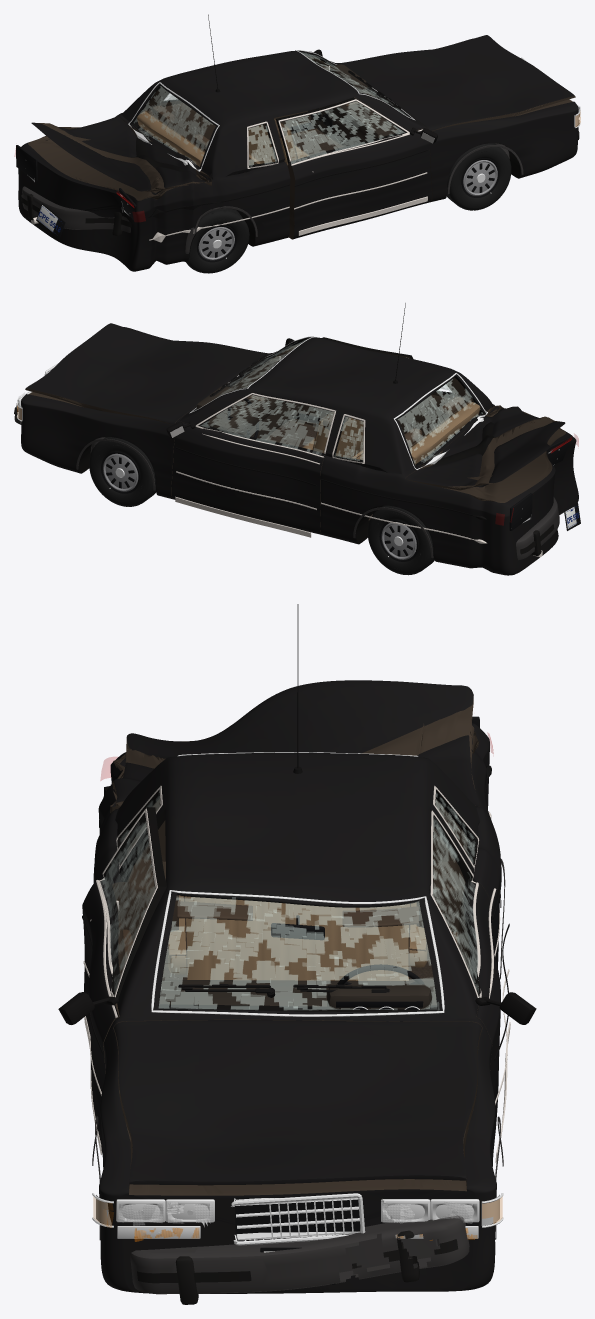
File: coupe84_rear_corner_R_d1.glb
3 renders of one model, top to bottom at view 1: azimuth 30°, elevation 25°; view 2: azimuth 150°, elevation 25°; view 3: azimuth 270°, elevation 25°, orthographic. The views are drawn at different scales.
Visible parts, largest first — view 1: Body, Hood, Door_FR, Trunk, Interior, Glass, Wheel_FR_mesh, Glass_FR, Wheel_RR_mesh, Trim_FR, Trim, Bumper_R (+2 smaller); view 2: Body, Hood, Door_FL, Trunk, Interior, Glass, Wheel_FL_mesh, Wheel_RL_mesh, Glass_FL, Trim_FL, Trim, Ends (+2 smaller); view 3: Body, Hood, Interior, Glass, Trunk, Bumper_F, Ends, Door_FR, Door_FL, Glass_FR, Trim, Trim_FR (+4 smaller).
Part boxes in pixels (box(x1,y1,x2,y2)): Body: box(18, 38, 578, 271); Hood: box(338, 35, 575, 131); Door_FR: box(276, 97, 431, 239); Trunk: box(31, 116, 209, 194); Interior: box(137, 64, 402, 166); Glass: box(128, 50, 415, 171); Wheel_FR_mesh: box(447, 143, 511, 210); Glass_FR: box(278, 99, 405, 166); Wheel_RR_mesh: box(186, 208, 249, 273); Trim_FR: box(278, 99, 437, 235); Trim: box(148, 14, 523, 253); Bumper_R: box(21, 186, 131, 235); Body: box(21, 327, 578, 575); Hood: box(25, 323, 268, 424); Door_FL: box(171, 392, 336, 534); Trunk: box(405, 406, 565, 490); Interior: box(196, 361, 480, 464); Glass: box(189, 336, 487, 469); Wheel_FL_mesh: box(89, 437, 155, 506); Wheel_RL_mesh: box(367, 505, 434, 575); Glass_FL: box(199, 392, 335, 457); Trim_FL: box(166, 393, 335, 537); Trim: box(76, 303, 486, 557); Ends: box(16, 363, 580, 530); Body: box(94, 723, 500, 1293); Hood: box(113, 1020, 482, 1185); Interior: box(159, 895, 436, 1009); Glass: box(119, 752, 475, 1016); Trunk: box(112, 680, 480, 806); Bumper_F: box(130, 1215, 469, 1304); Ends: box(92, 716, 503, 1284); Door_FR: box(82, 807, 166, 1153); Door_FL: box(429, 809, 500, 1148); Glass_FR: box(98, 821, 159, 991); Trim: box(92, 604, 505, 1240); Trim_FR: box(58, 808, 157, 1154).
Size of the model in its own units: 5.18 by 2.15 by 2.13.
Materials: 34 (5 with a texture image).
